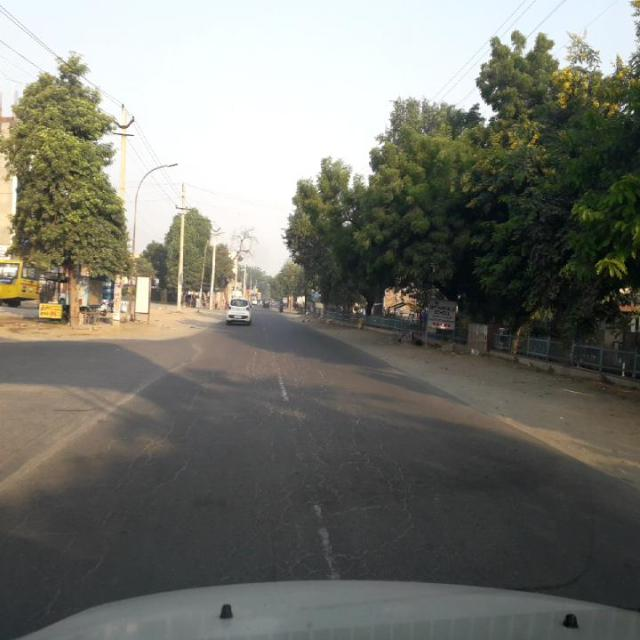Crack: (213, 323, 426, 588)
